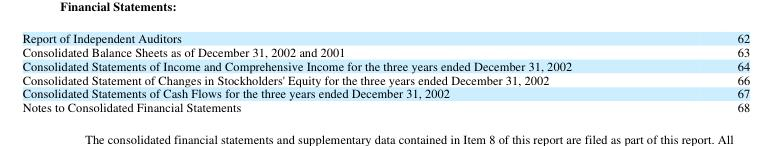table: (21, 28, 749, 114)
table column: (21, 28, 653, 114), (653, 28, 749, 114)
table row: (21, 28, 749, 44), (21, 99, 749, 114), (21, 44, 749, 58), (21, 71, 749, 85), (21, 85, 749, 99), (21, 58, 749, 71)
